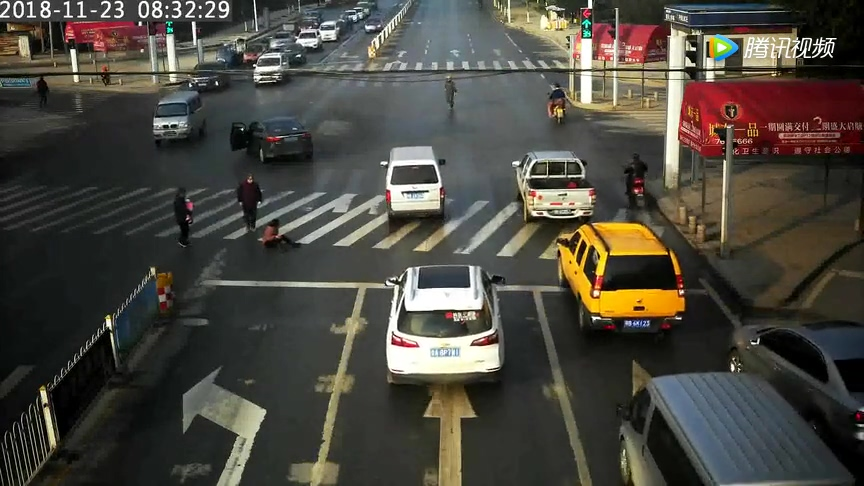car: (598, 360, 857, 486), (370, 259, 530, 389), (537, 217, 700, 344), (510, 141, 605, 230), (380, 139, 456, 225), (229, 105, 319, 170), (146, 76, 210, 154), (251, 52, 293, 87), (189, 61, 233, 92), (294, 27, 324, 52), (362, 13, 385, 33)
person: (167, 185, 203, 250), (238, 172, 266, 237), (624, 151, 656, 204), (262, 219, 304, 251), (434, 70, 459, 113), (30, 76, 53, 118), (544, 84, 566, 121), (91, 64, 113, 87)
